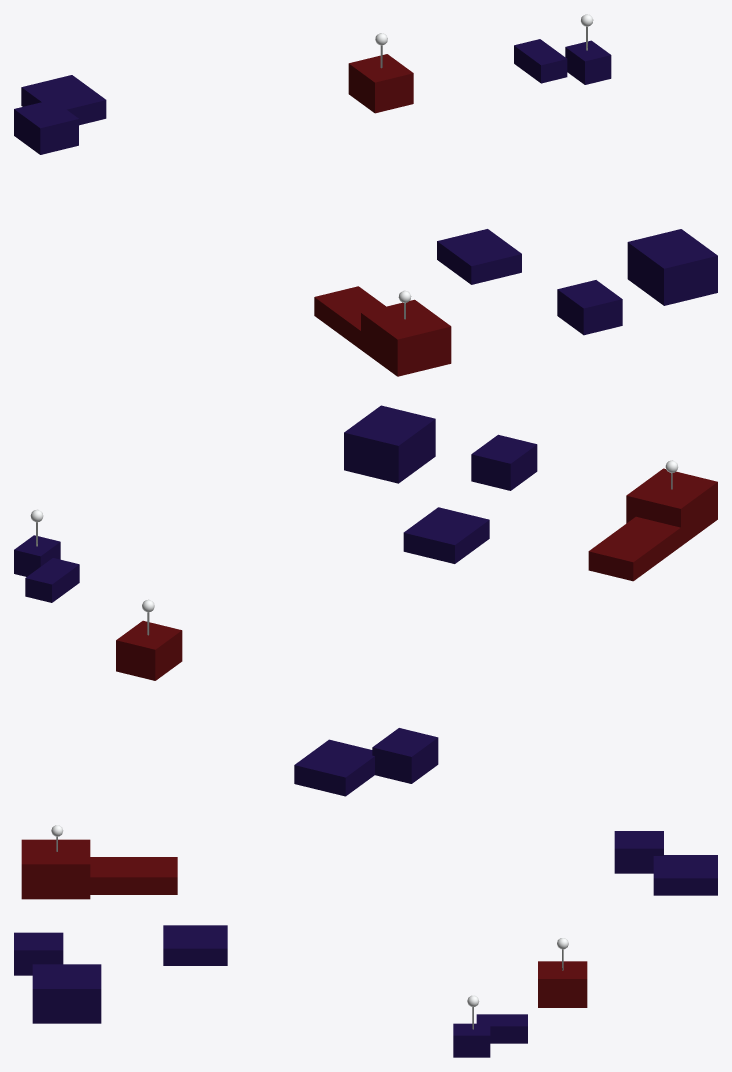
The model's file is M_Tfanghezi01.FBX.
3 views of the same model, one above another, from view 1: azimuth 30°, elevation 25°; view 2: azimuth 150°, elevation 25°; view 3: azimuth 270°, elevation 25° (orthographic). The views are drawn at different scales.
Parts seen in each view (by area): view 1: M_Tfanghezi01_01; view 2: M_Tfanghezi01_01; view 3: M_Tfanghezi01_01.
Boxes of the visible parts, box(x1,y1,x2,y2) form: M_Tfanghezi01_01: box(14, 39, 717, 376); M_Tfanghezi01_01: box(14, 405, 717, 796); M_Tfanghezi01_01: box(14, 831, 717, 1057).
Size of the model in its own units: 13.82 by 2.2 by 18.55.
